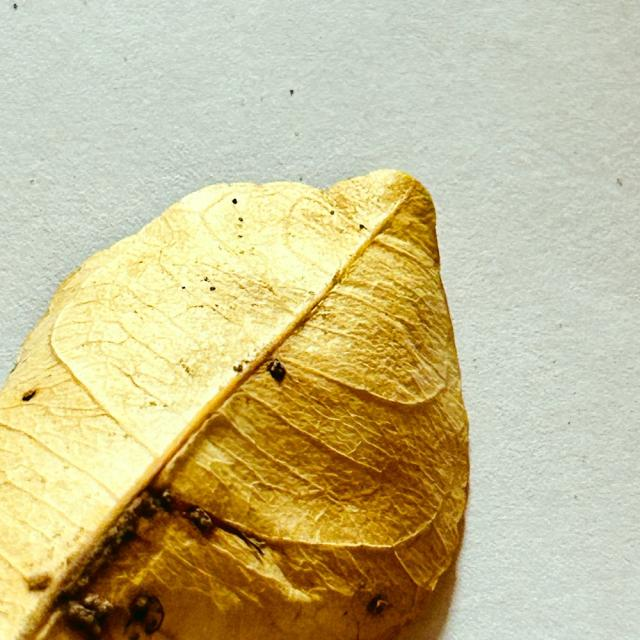DryLeaf_Lemon: (0, 170, 468, 639)
